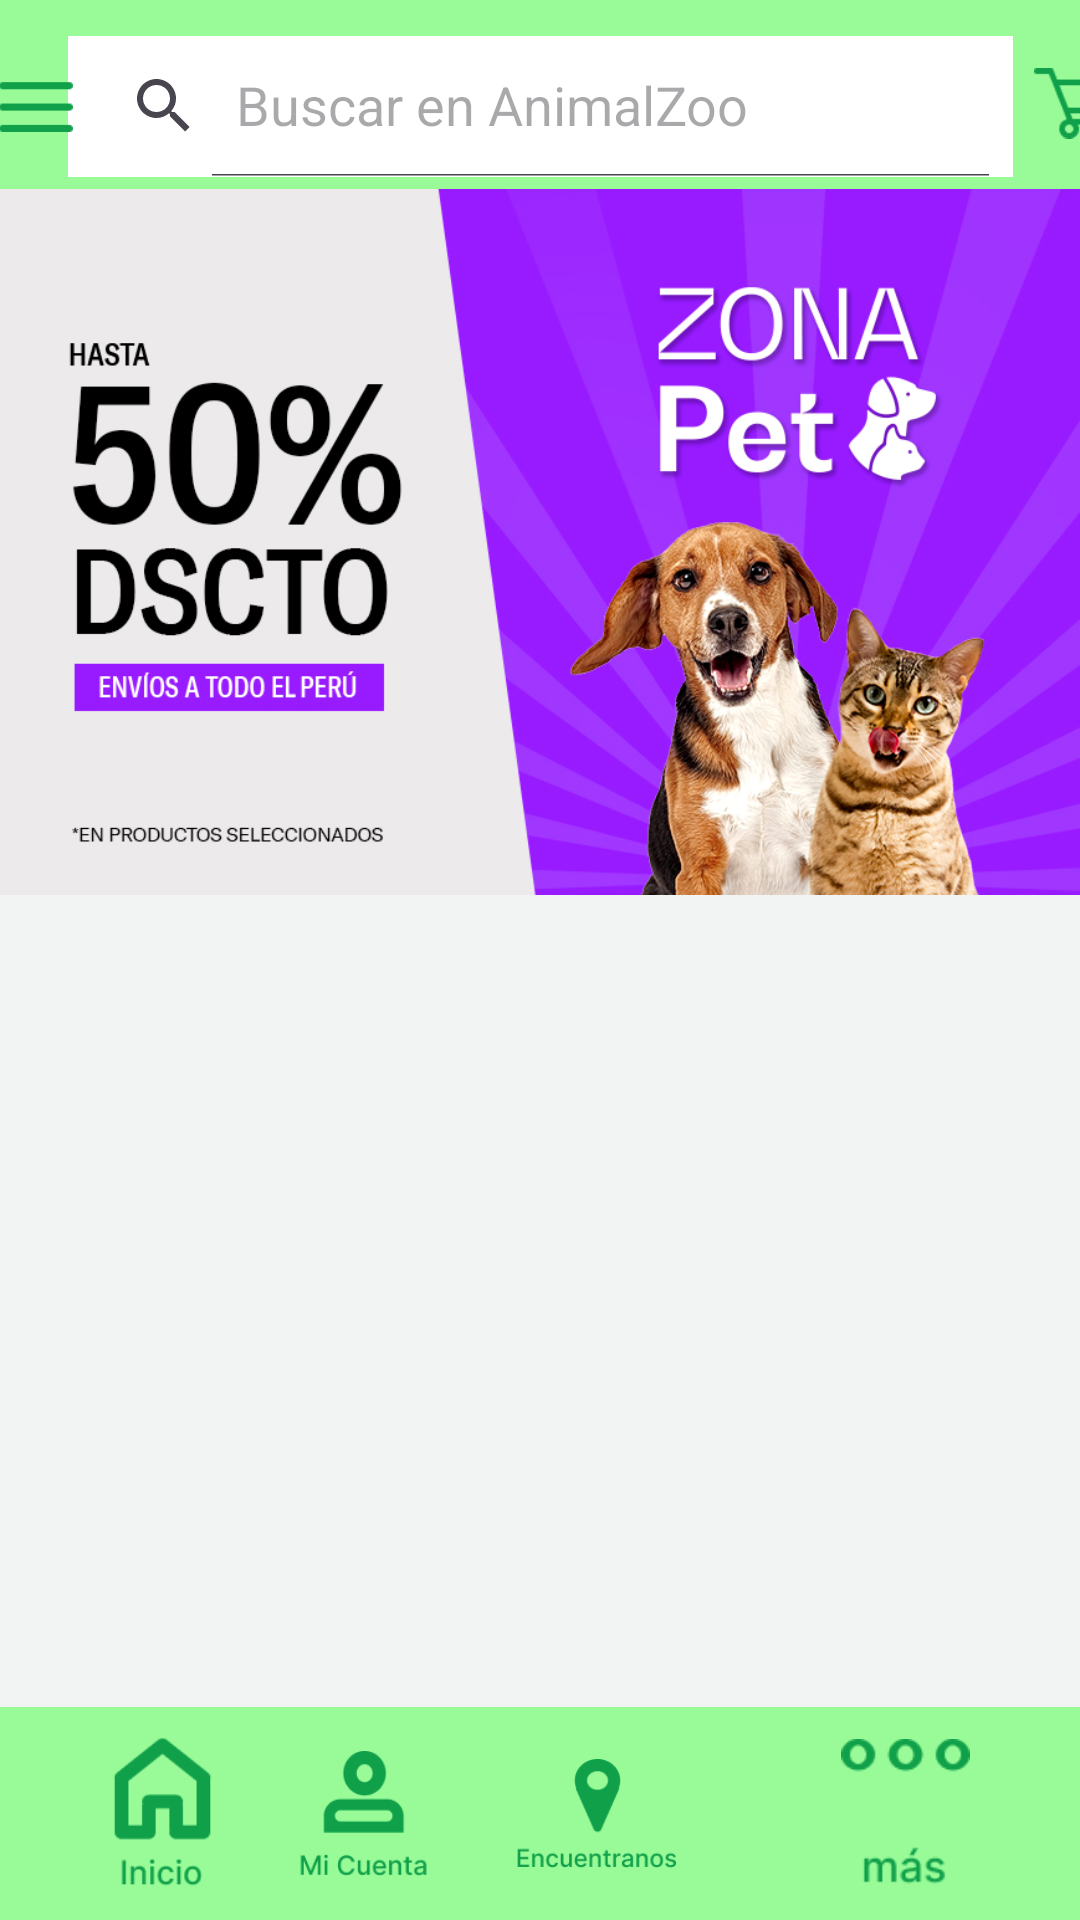

Icons on this 1080*1920 Android screen, each with the point to tap as point (x, y):
lineas: point (36, 106)
trespuntos: point (905, 1811)
